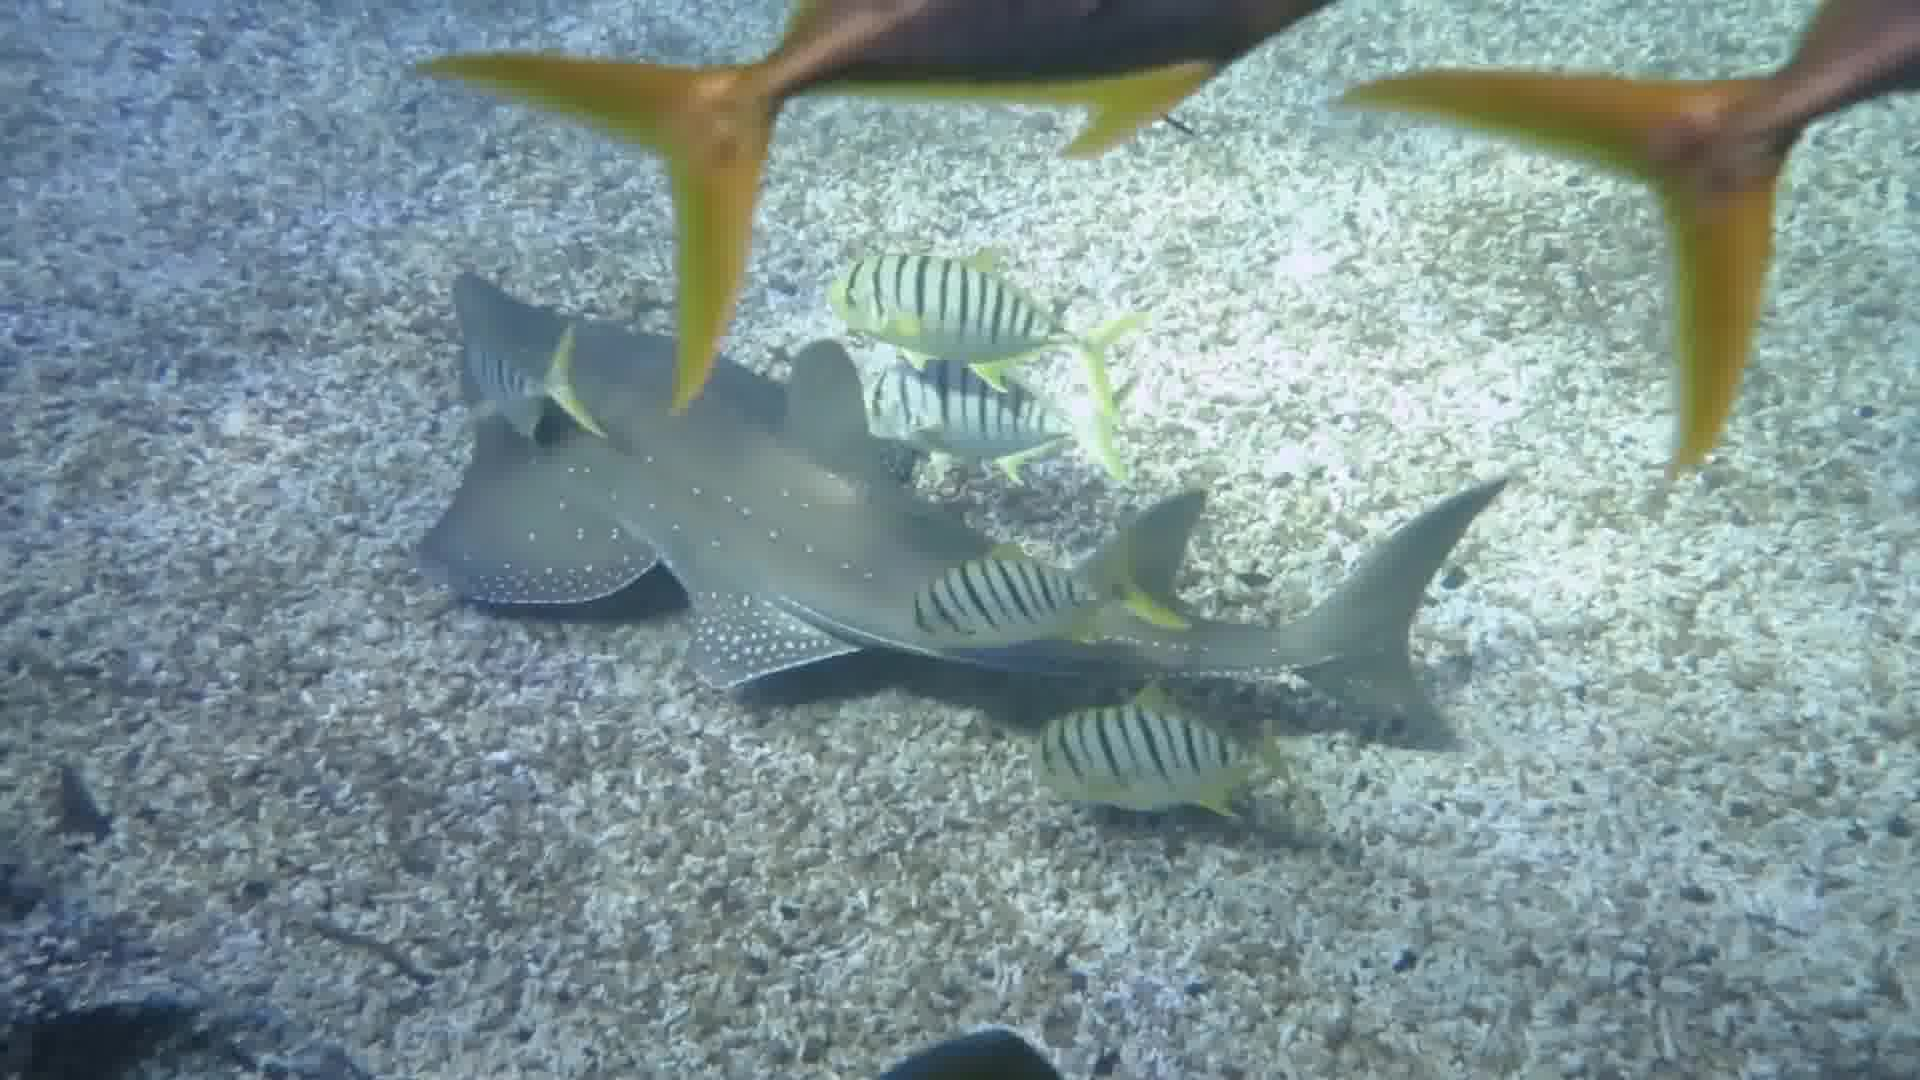Rhychobatus djiddensis: (438, 280, 1495, 771)
